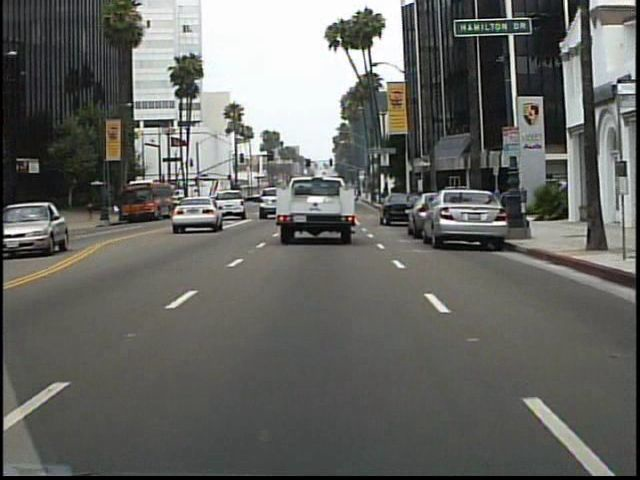person: (85, 199, 99, 224)
